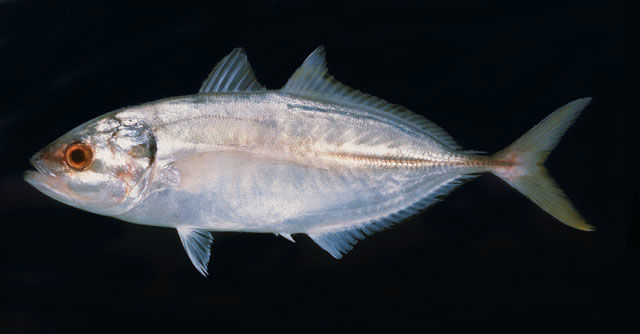fish: (23, 46, 599, 276)
